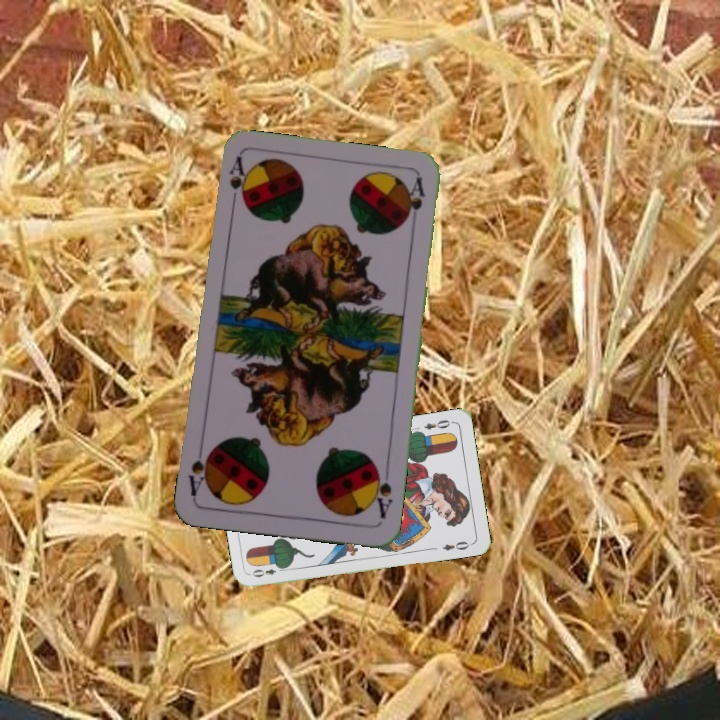EO: (248, 562, 288, 580), (420, 416, 456, 432)
SA: (367, 463, 396, 521), (224, 153, 248, 212)
